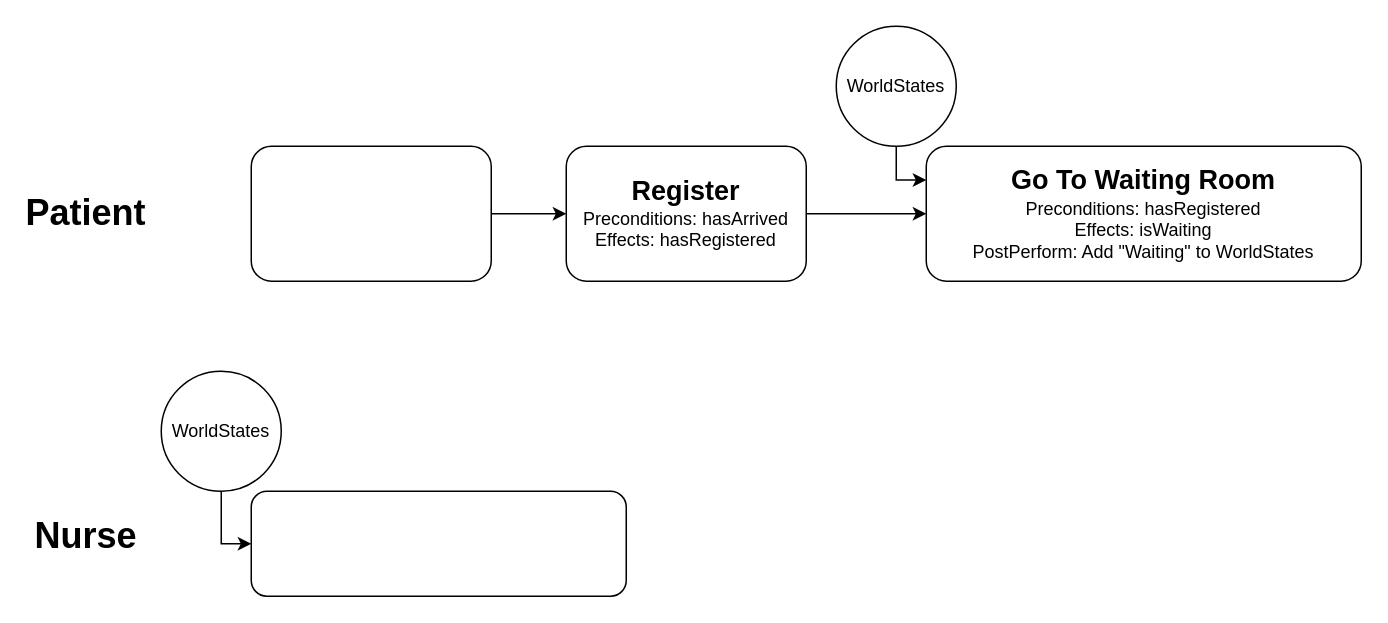
Some shapes in this 1388 by 623 pixel diagram are drawn without their labels. Each missing label, with the box of its shape:
GetPatient Preconditions: Waiting from WorldStates Effects: treatPatient: (250, 490, 626, 596)
Go To Hospital Preconditions: None Effects: hasArrived: (250, 145, 491, 281)
